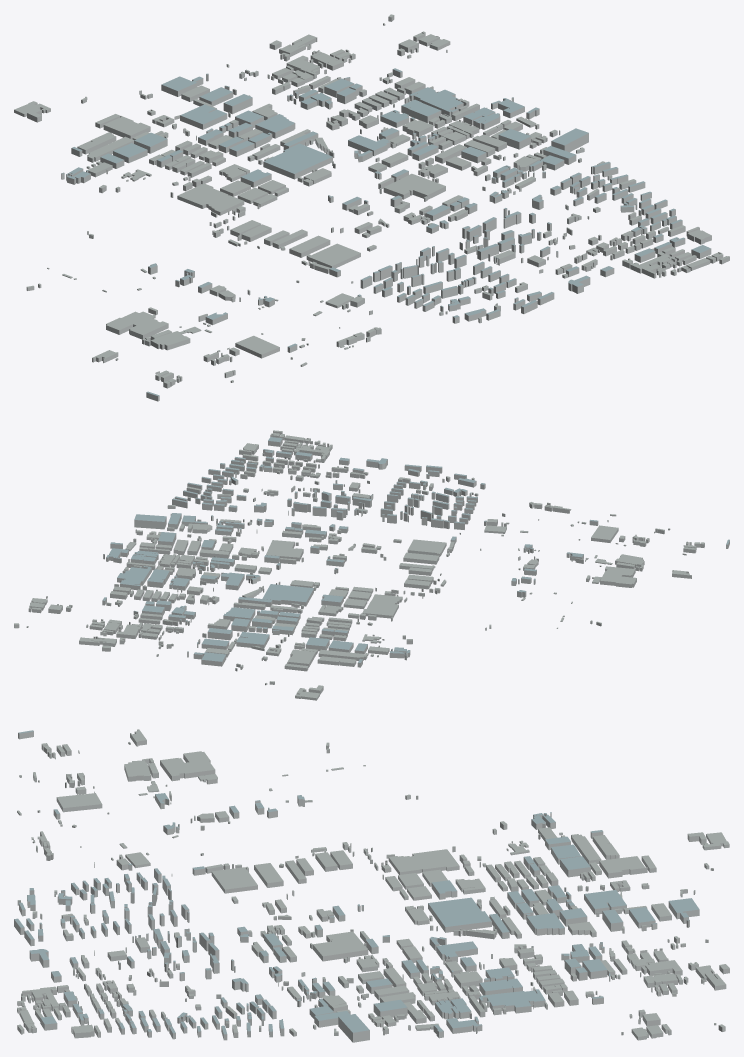
The picture shows the model from 3 angles, top to bottom: view 1: azimuth 30°, elevation 25°; view 2: azimuth 150°, elevation 25°; view 3: azimuth 270°, elevation 25°; orthographic projection. The views are drawn at different scales.
Parts seen in each view (by area): view 1: 上海全域建筑分块 · mapped building neighborhood; view 2: 上海全域建筑分块 · mapped building neighborhood; view 3: 上海全域建筑分块 · mapped building neighborhood.
Part boxes in pixels (x1=…): 上海全域建筑分块 · mapped building neighborhood: x1=14, y1=14, x2=729, y2=401; 上海全域建筑分块 · mapped building neighborhood: x1=14, y1=430, x2=729, y2=700; 上海全域建筑分块 · mapped building neighborhood: x1=14, y1=729, x2=729, y2=1042.
Bounding box in the file's own units: 2166 × 35.26 × 2120.
